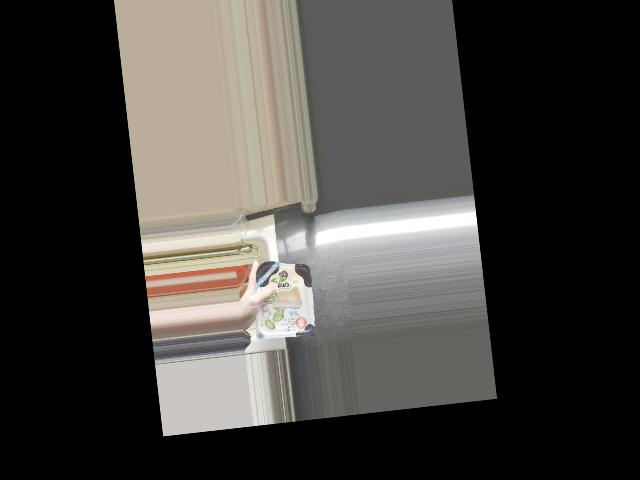cheese: (248, 256, 316, 338)
